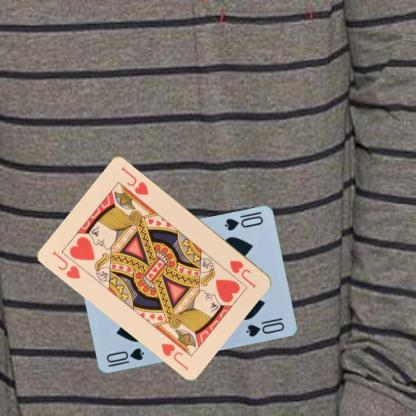10s: (104, 346, 146, 368), (221, 213, 264, 232)
Jh: (50, 248, 82, 280), (227, 257, 258, 290)
